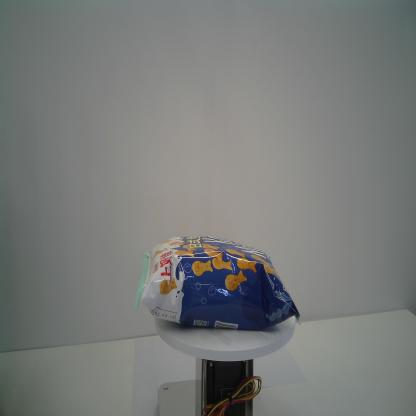Puffed Food: (134, 236, 301, 331)
